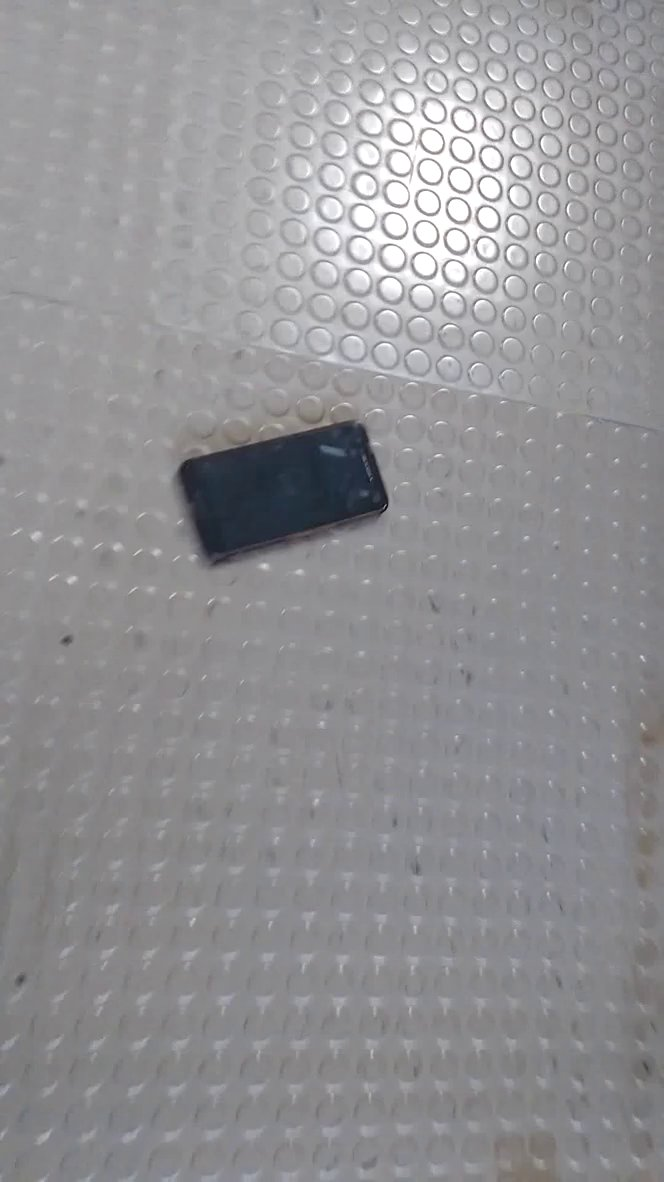phone: (171, 409, 401, 573)
